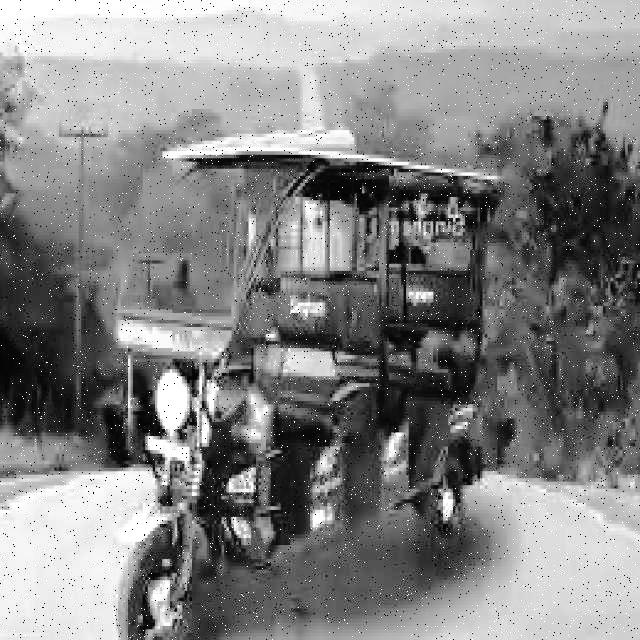Toto: (110, 119, 497, 640)
